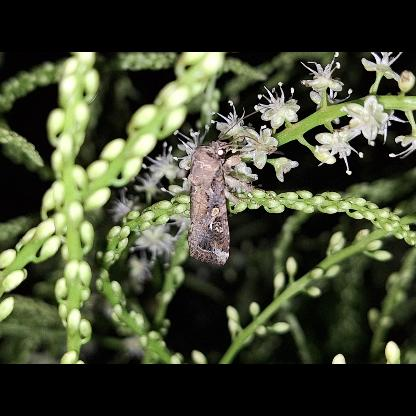Fall Armyworm Moth: (186, 105, 278, 270)
